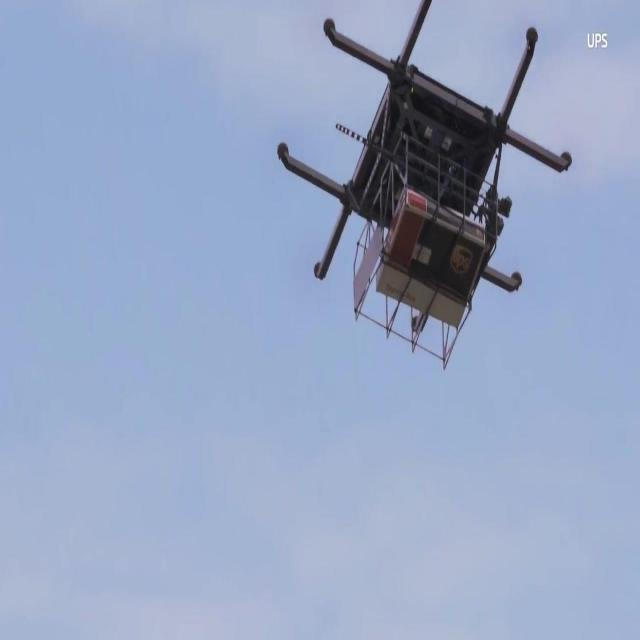UAV: (278, 0, 572, 369)
